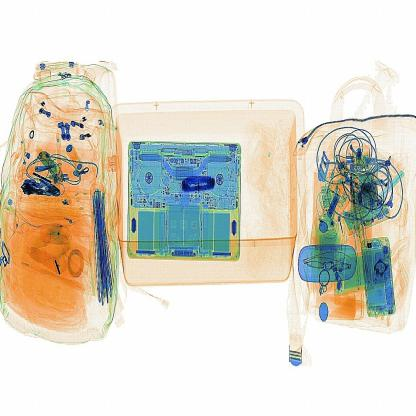scissors: (179, 175, 218, 197)
